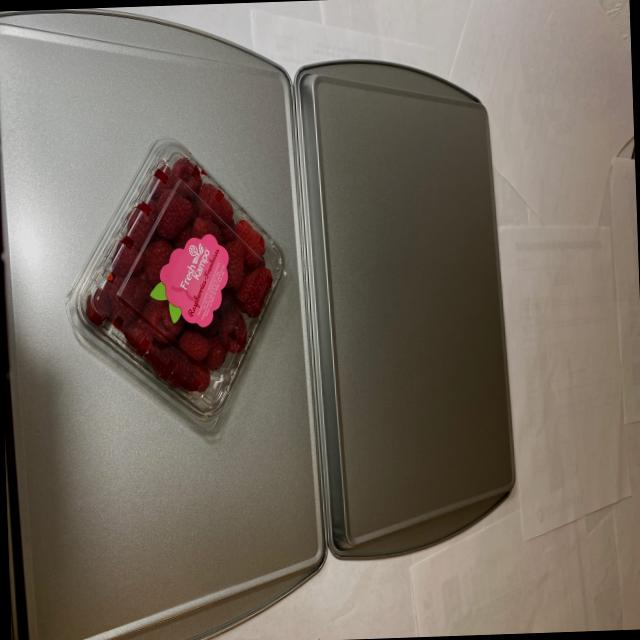raspberries: (82, 152, 274, 398)
